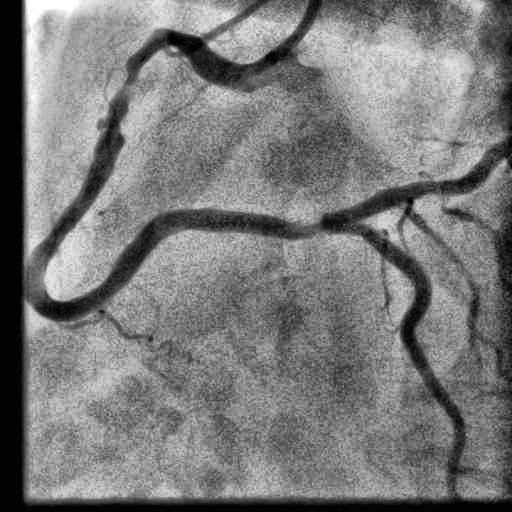pborca: (345, 142, 509, 223)
pda: (348, 222, 465, 493)
rca: (27, 29, 349, 321)
